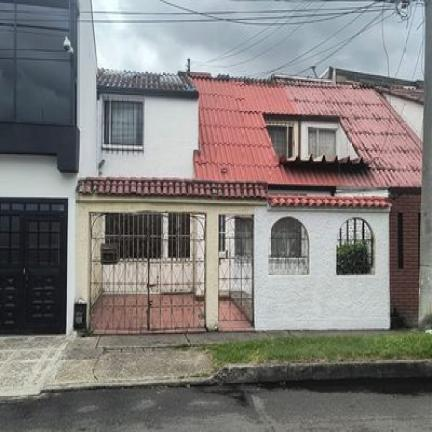casa: (75, 68, 421, 333)
